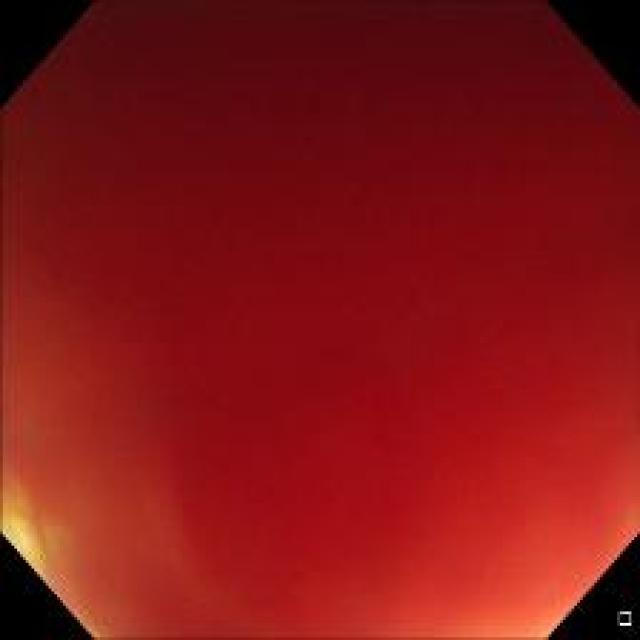color misalignment: (6, 10, 629, 631)
